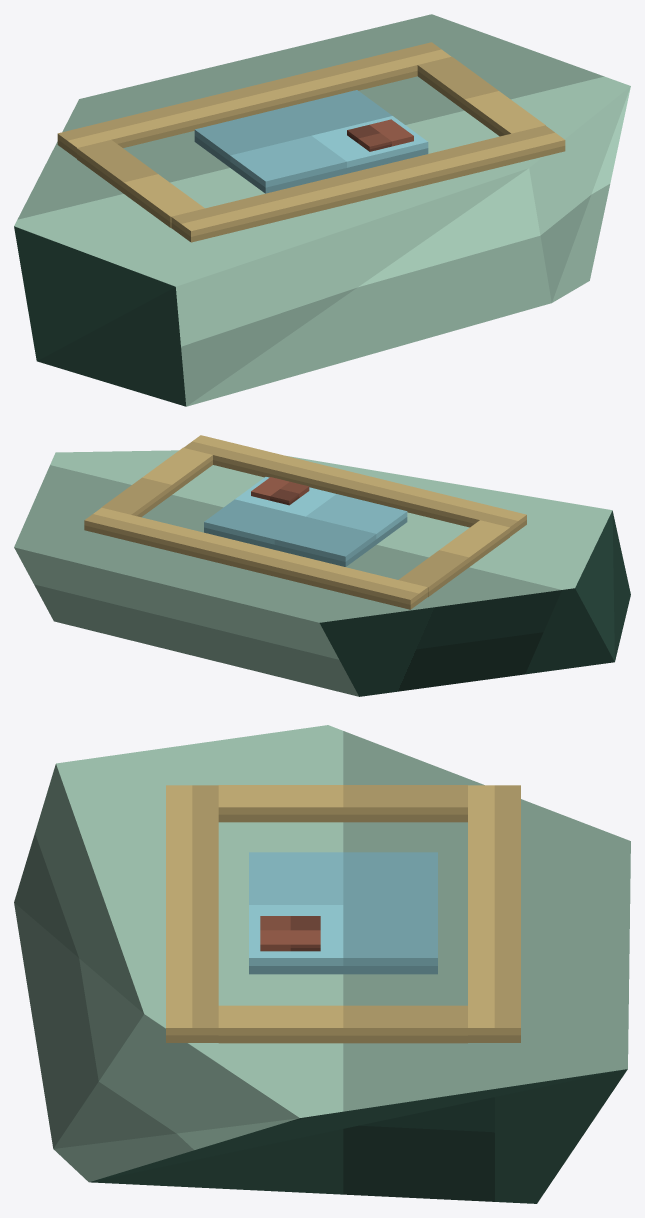
File: zhuji_yuheng_yizhuang_ingot.obj
The picture shows the model from 3 angles, top to bottom: view 1: azimuth 30°, elevation 25°; view 2: azimuth 150°, elevation 25°; view 3: azimuth 270°, elevation 25°; orthographic projection. The views are drawn at different scales.
Visible parts, largest first — view 1: ingot_body, yuheng_ingot_seal, yuheng_ingot_frame_0, yuheng_ingot_frame_1, yuheng_ingot_frame_2, yuheng_ingot_frame_3, yuheng_ingot_red; view 2: ingot_body, yuheng_ingot_seal, yuheng_ingot_frame_1, yuheng_ingot_frame_0, yuheng_ingot_frame_2, yuheng_ingot_frame_3, yuheng_ingot_red; view 3: ingot_body, yuheng_ingot_seal, yuheng_ingot_frame_0, yuheng_ingot_frame_1, yuheng_ingot_frame_3, yuheng_ingot_frame_2, yuheng_ingot_red.
Boxes of the visible parts, box(x1,y1,x2,y2) form: ingot_body: box(14, 14, 630, 406); yuheng_ingot_seal: box(194, 90, 428, 193); yuheng_ingot_frame_0: box(171, 125, 565, 242); yuheng_ingot_frame_1: box(57, 42, 451, 158); yuheng_ingot_frame_2: box(77, 140, 204, 227); yuheng_ingot_frame_3: box(417, 56, 545, 136); yuheng_ingot_red: box(347, 119, 413, 151); ingot_body: box(14, 450, 630, 696); yuheng_ingot_seal: box(204, 477, 407, 566); yuheng_ingot_frame_1: box(84, 507, 427, 609); yuheng_ingot_frame_0: box(183, 435, 526, 536); yuheng_ingot_frame_2: box(399, 520, 509, 596); yuheng_ingot_frame_3: box(101, 447, 212, 517); yuheng_ingot_red: box(251, 477, 309, 505); ingot_body: box(14, 725, 630, 1203); yuheng_ingot_seal: box(249, 852, 437, 974); yuheng_ingot_frame_0: box(166, 785, 218, 1042); yuheng_ingot_frame_1: box(468, 785, 520, 1042); yuheng_ingot_frame_3: box(218, 1005, 467, 1043); yuheng_ingot_frame_2: box(218, 785, 467, 822); yuheng_ingot_red: box(260, 916, 320, 951).
Size of the model in its own units: 0.3922 by 0.0756 by 0.2552.
